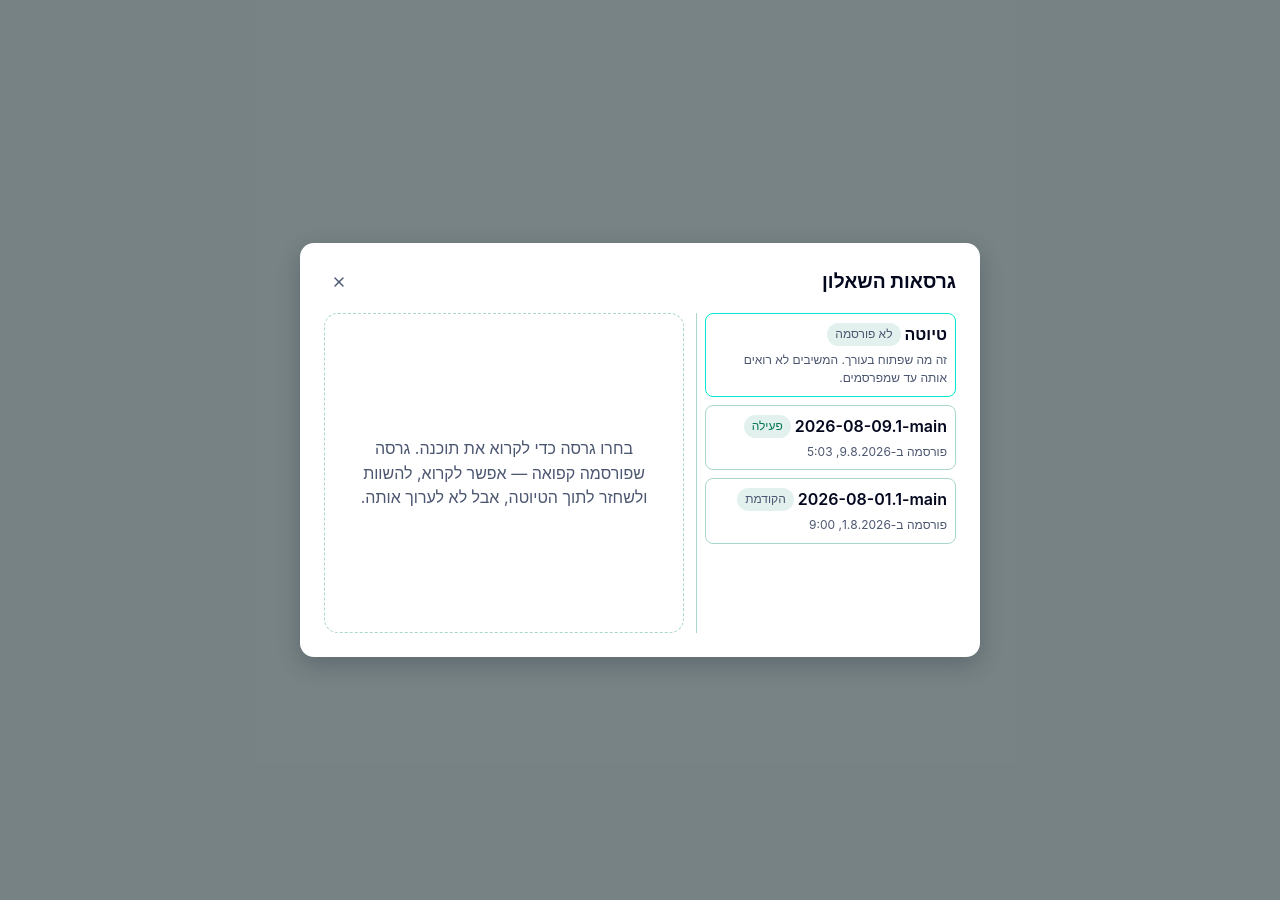
reading a published version › compares two versions using the same diff the agent reports
The image size is (1280, 900).
Click the text "2026-08-09.1-main": (871, 426) [795,414,947,439]
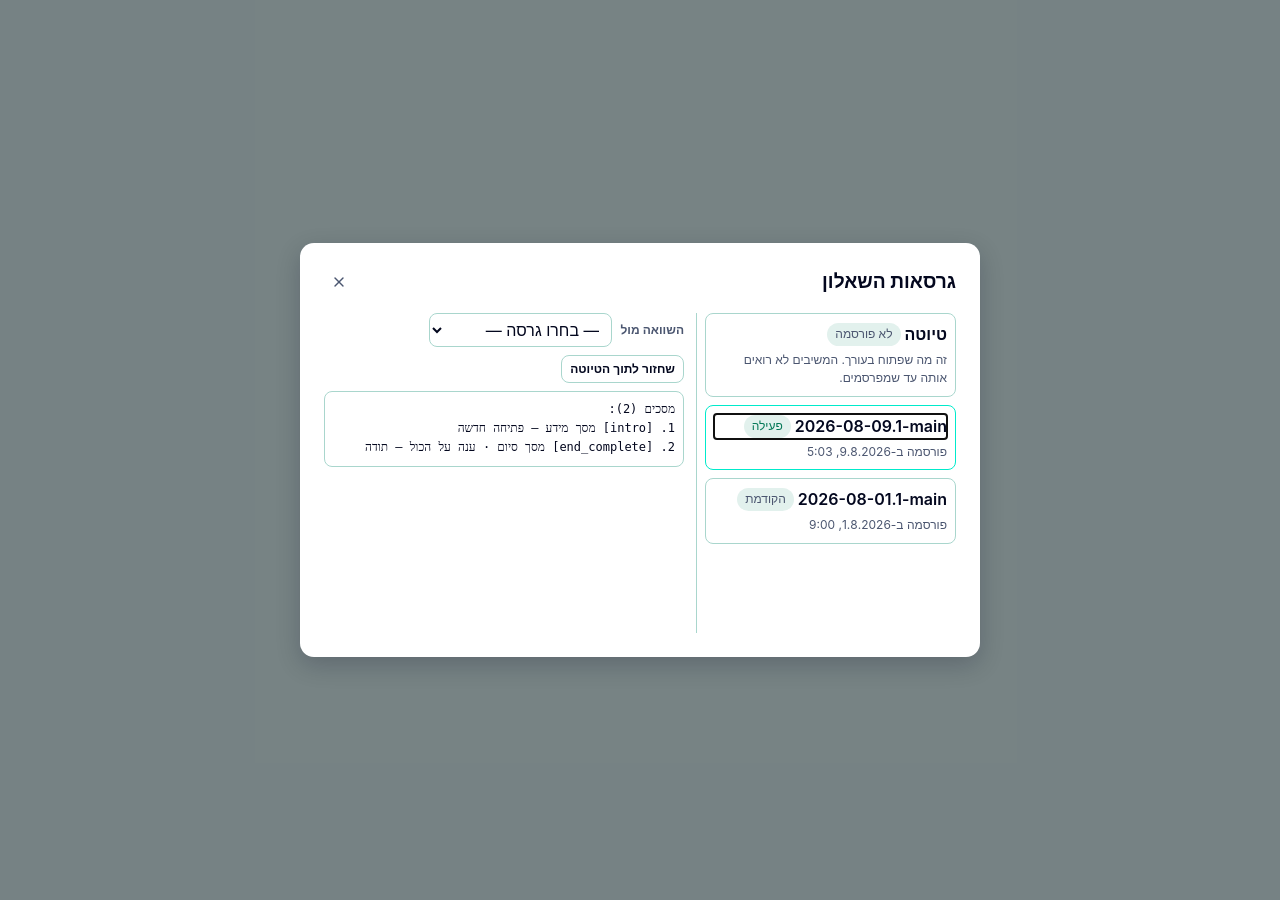
Select "2026-08-01.1-main" in the dropdown labelled "השוואה מול": (521, 330) [430,313,612,347]
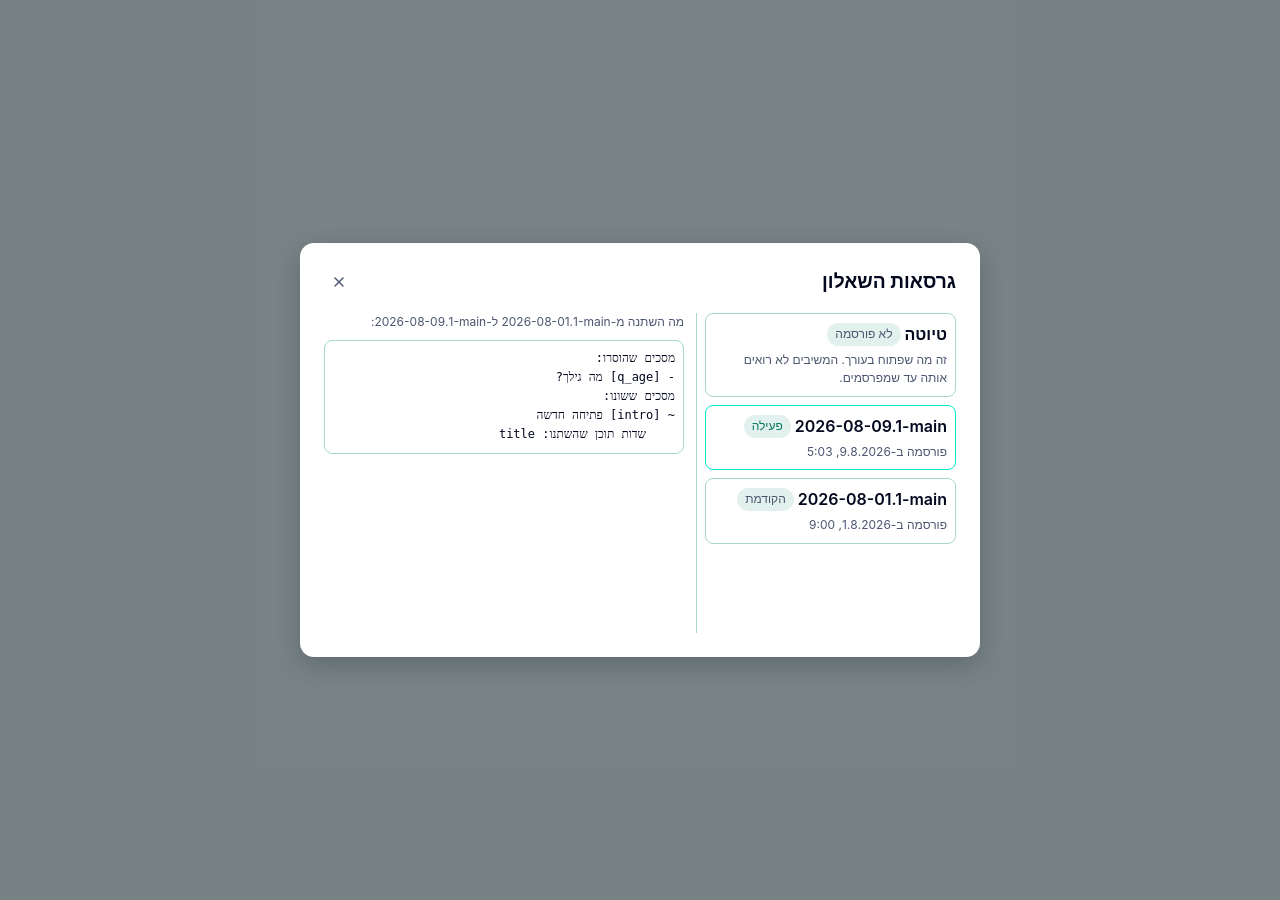
Expected: the text "מה גילך?" is shown, [499,351,675,441]
